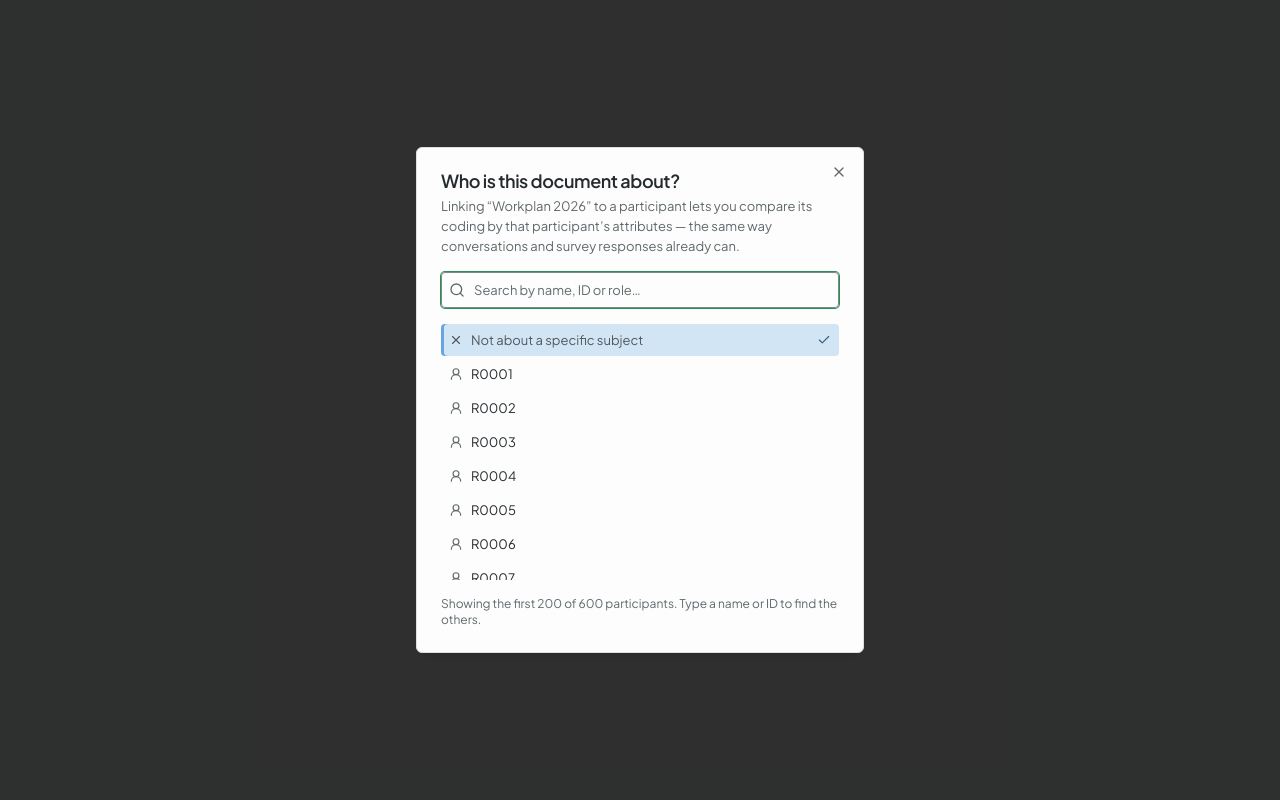
it: DocumentSubjectDialog › #1045 renders at most PARTICIPANT_LIST_LIMIT participants, says so, and search reaches the rest
Expected: the button "R0001" is shown, 441,358 -> 839,390
In the field named "Search participants by name, ID or role": x=640, y=290 441,272 -> 839,308, type "r0599"
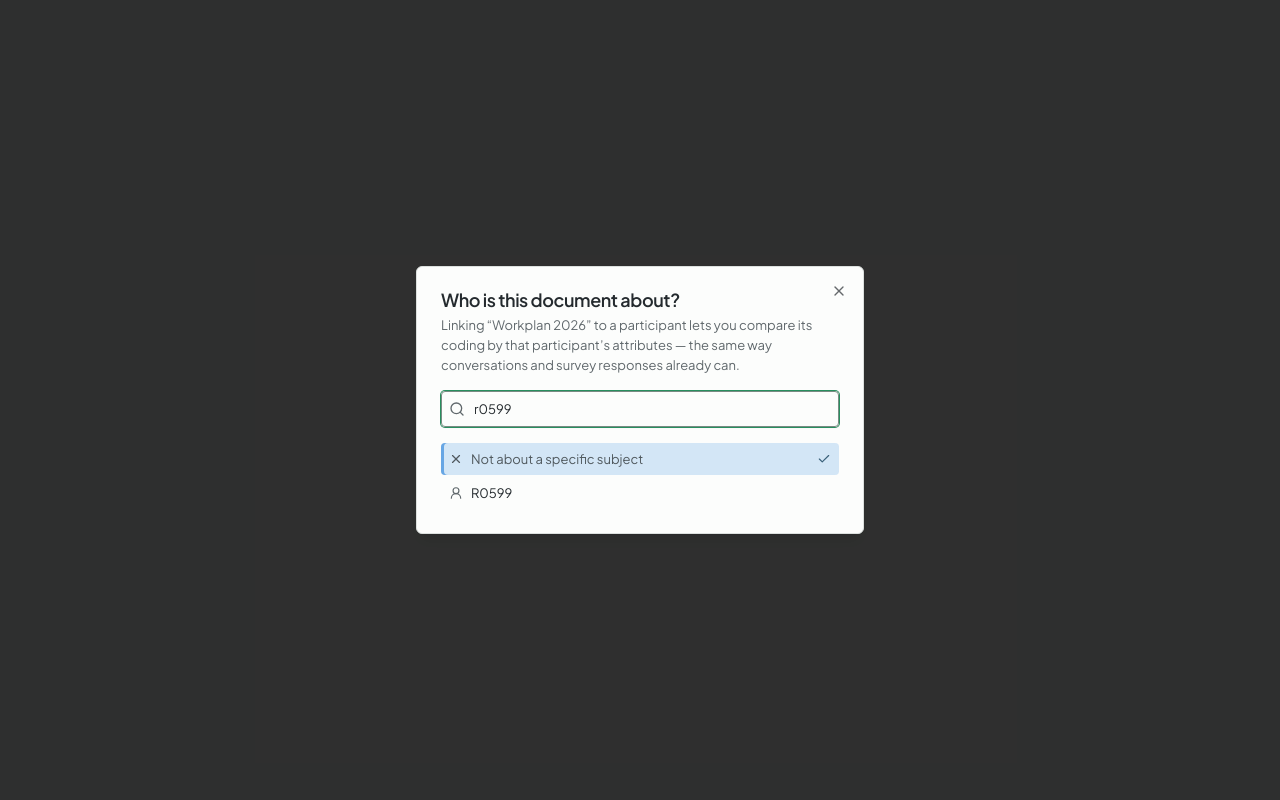
Expected: the text "Showing the first" is gone
